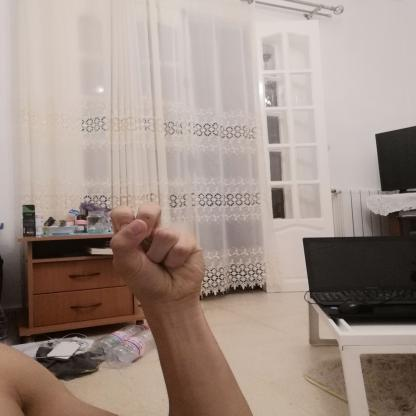QAAF: (93, 189, 224, 316)
